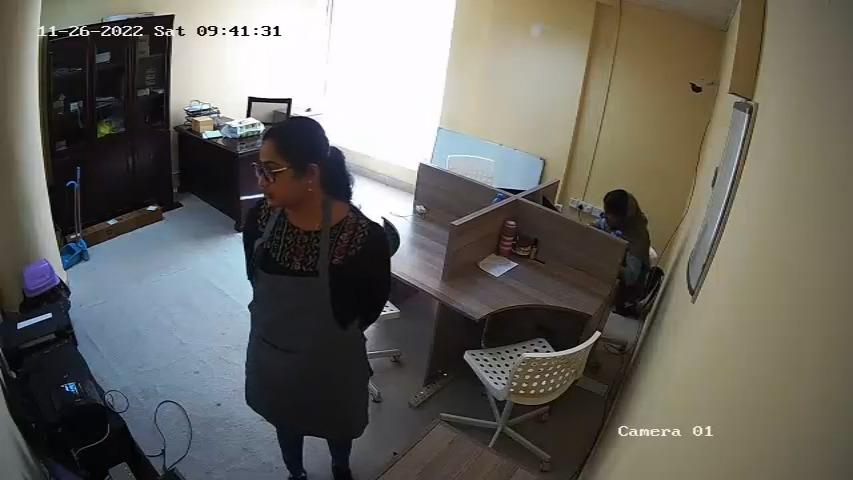apron: (248, 219, 363, 430)
